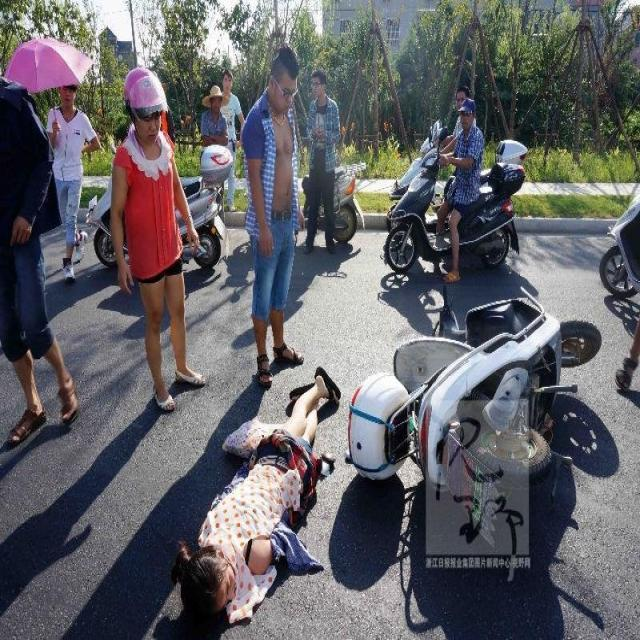10-: (0, 2, 639, 628)
down: (158, 341, 349, 626)
